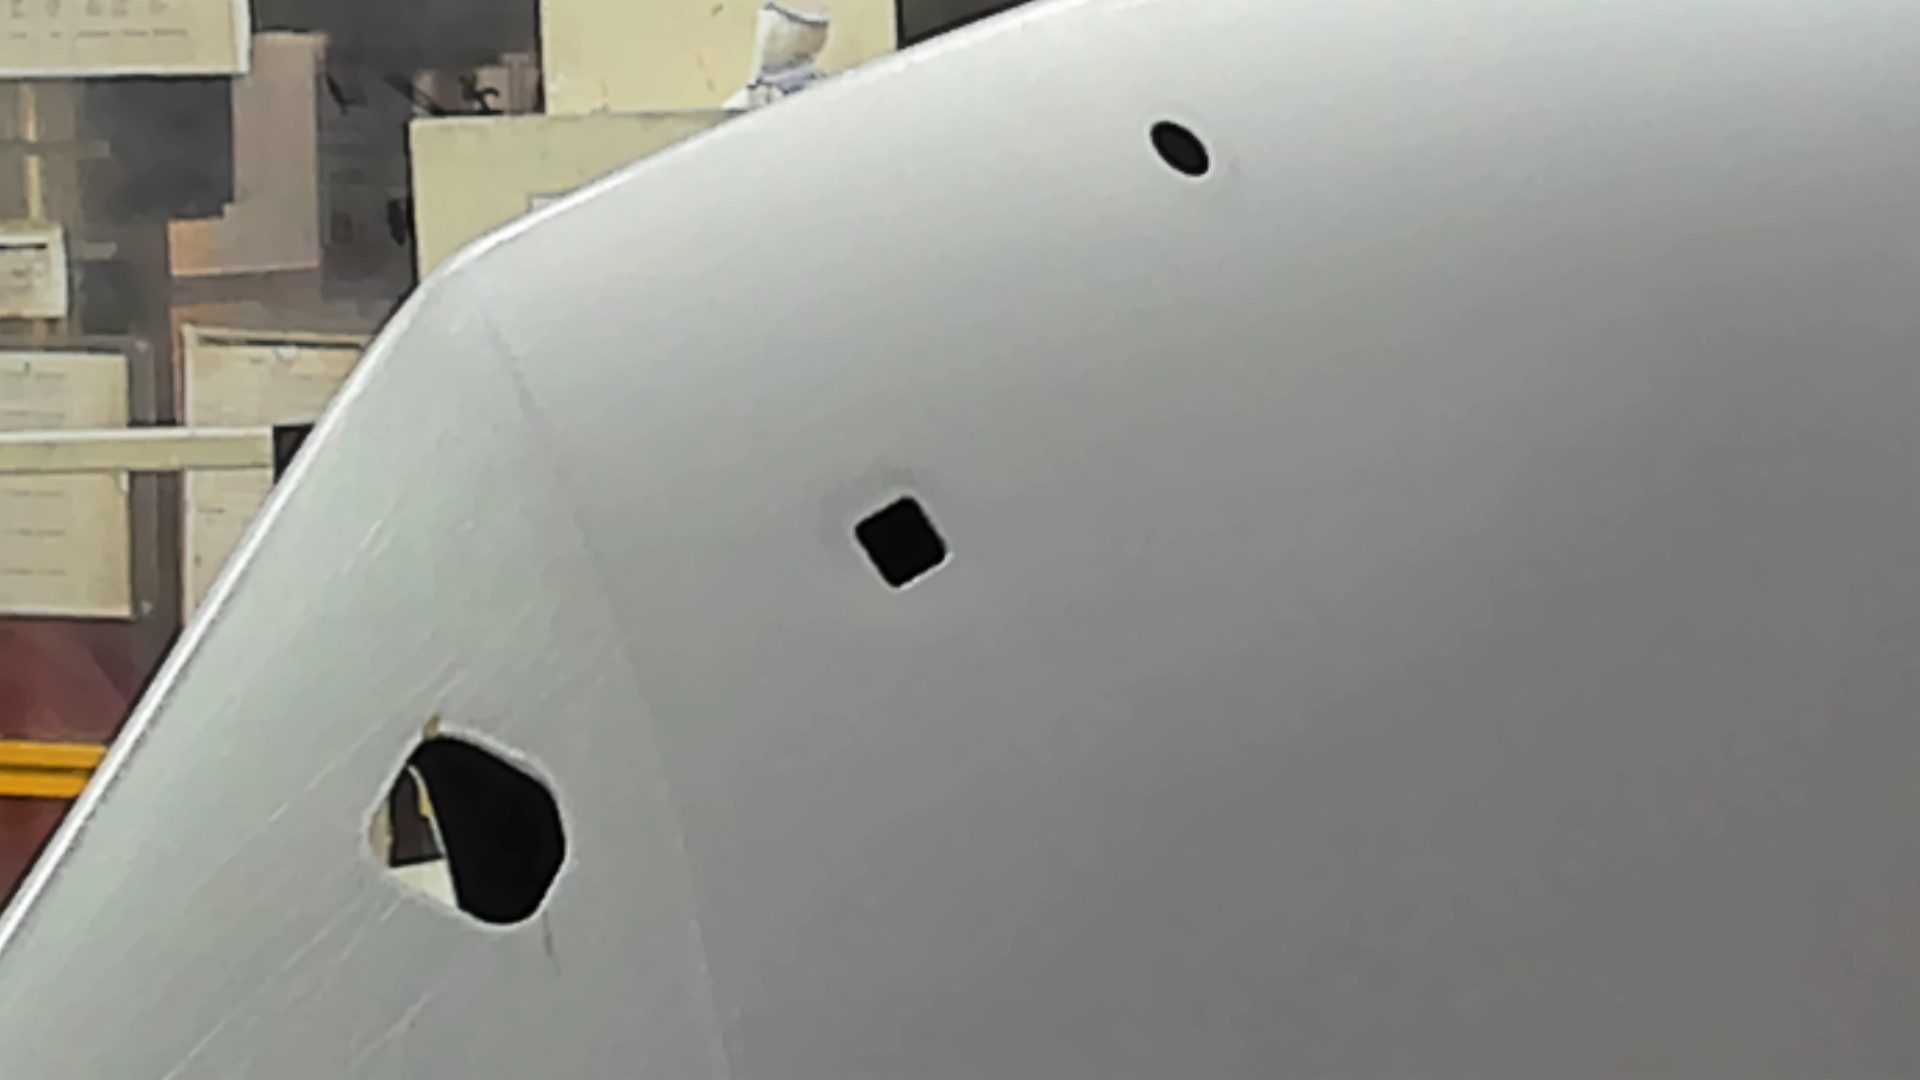capo: (961, 189, 1920, 1075)
chico: (1146, 113, 1211, 182)
grande: (355, 711, 575, 938)
mediano: (848, 491, 952, 593)
